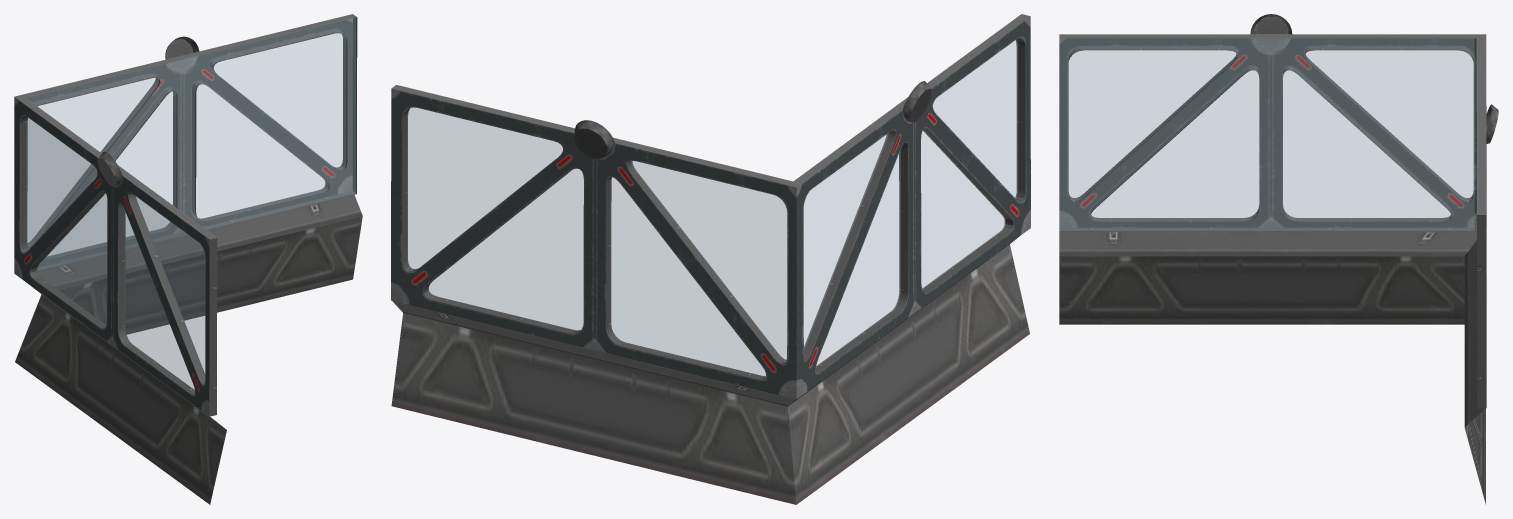
Rendered from sf_wall_window_corner.glb.
3 views of the same model, side by side, from view 1: azimuth 30°, elevation 25°; view 2: azimuth 150°, elevation 25°; view 3: azimuth 270°, elevation 25° (orthographic). The views are drawn at different scales.
Parts seen in each view (by area): view 1: WallWindow_Corner_Square_Outer; view 2: WallWindow_Corner_Square_Outer; view 3: WallWindow_Corner_Square_Outer.
Part boxes in pixels (x1,y1,x2,y2): WallWindow_Corner_Square_Outer: (14, 14, 362, 504); WallWindow_Corner_Square_Outer: (391, 14, 1030, 504); WallWindow_Corner_Square_Outer: (1059, 14, 1498, 504).
Size of the model in its own units: 4.12 by 3.19 by 4.12.
Materials: 4 (3 with a texture image).
